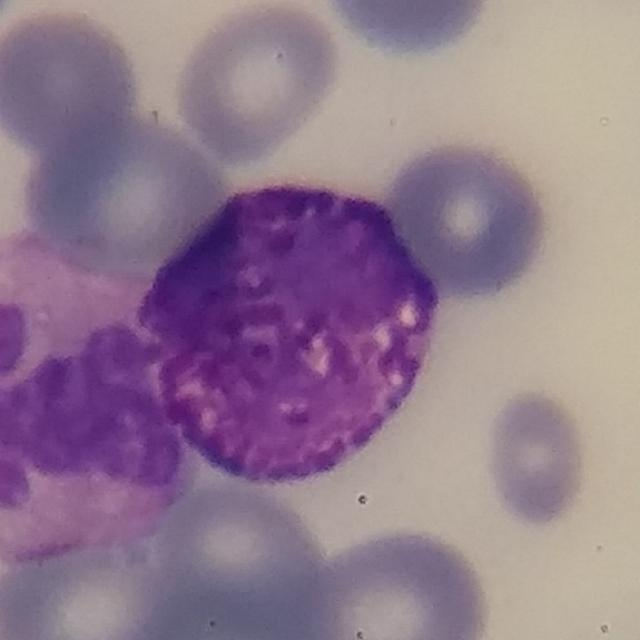baso: (139, 175, 444, 485)
